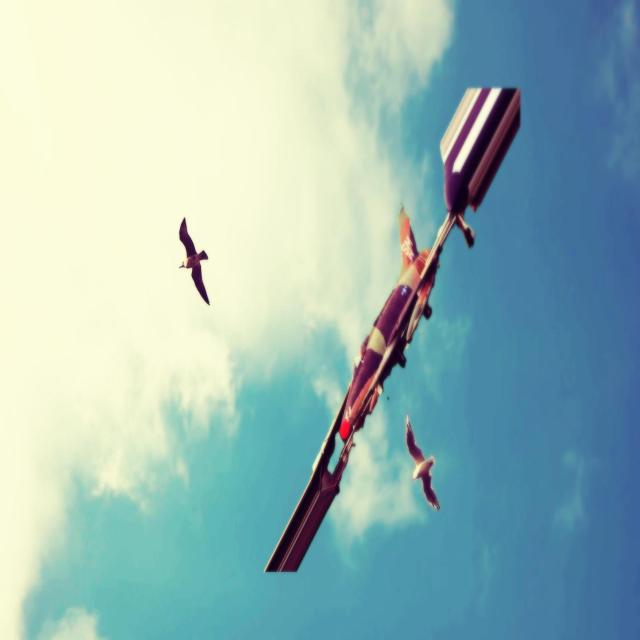airplane: (263, 84, 521, 573)
